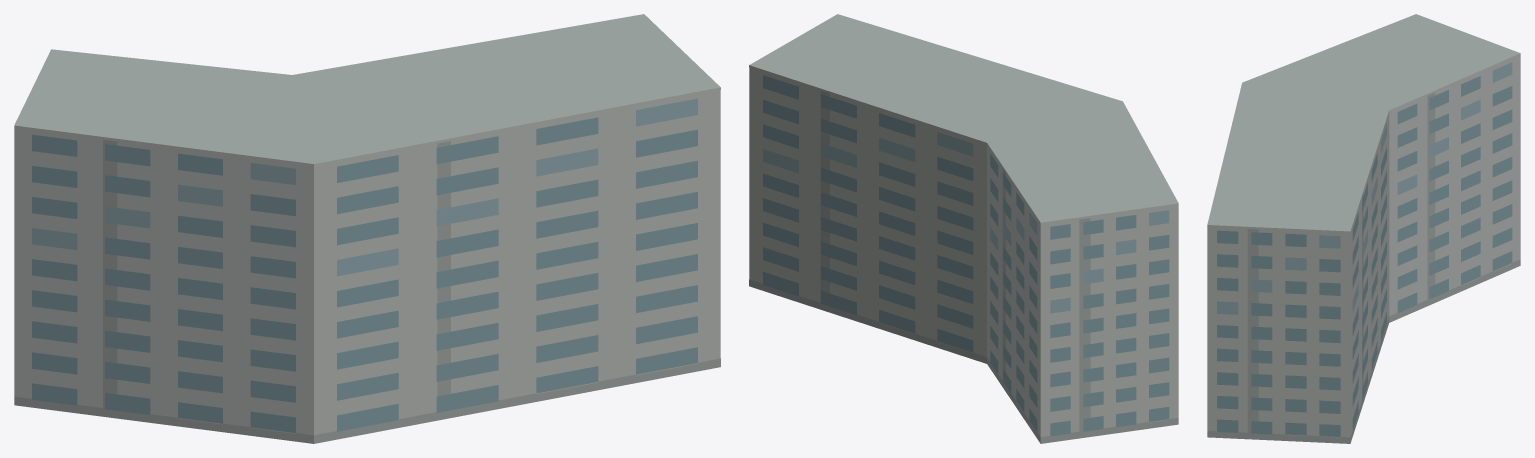
Rendered from residential-833c72c7-db6c-4bbd-9644-2c5865e3a9ca.glb.
3 views of the same model, side by side, from view 1: azimuth 30°, elevation 25°; view 2: azimuth 150°, elevation 25°; view 3: azimuth 270°, elevation 25° (orthographic). The views are drawn at different scales.
Visible parts, largest first — view 1: residential-833c72c7-db6c-4bbd-9644-2c5865e3a9ca.tmp; view 2: residential-833c72c7-db6c-4bbd-9644-2c5865e3a9ca.tmp; view 3: residential-833c72c7-db6c-4bbd-9644-2c5865e3a9ca.tmp.
Part boxes in pixels (x1,y1,x2,y2): residential-833c72c7-db6c-4bbd-9644-2c5865e3a9ca.tmp: (14, 14, 720, 443); residential-833c72c7-db6c-4bbd-9644-2c5865e3a9ca.tmp: (749, 14, 1178, 443); residential-833c72c7-db6c-4bbd-9644-2c5865e3a9ca.tmp: (1207, 14, 1520, 443).
Bounding box in the file's own units: 54.87 × 25 × 33.43.
